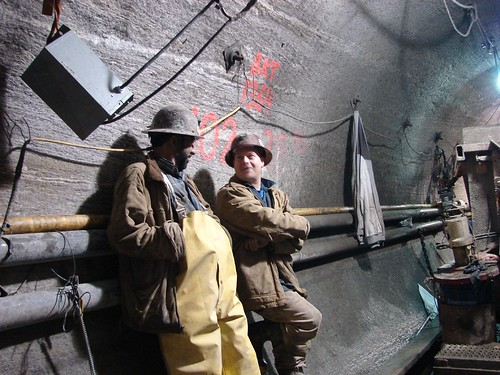person hardhat: (115, 101, 252, 375), (212, 133, 322, 375)
